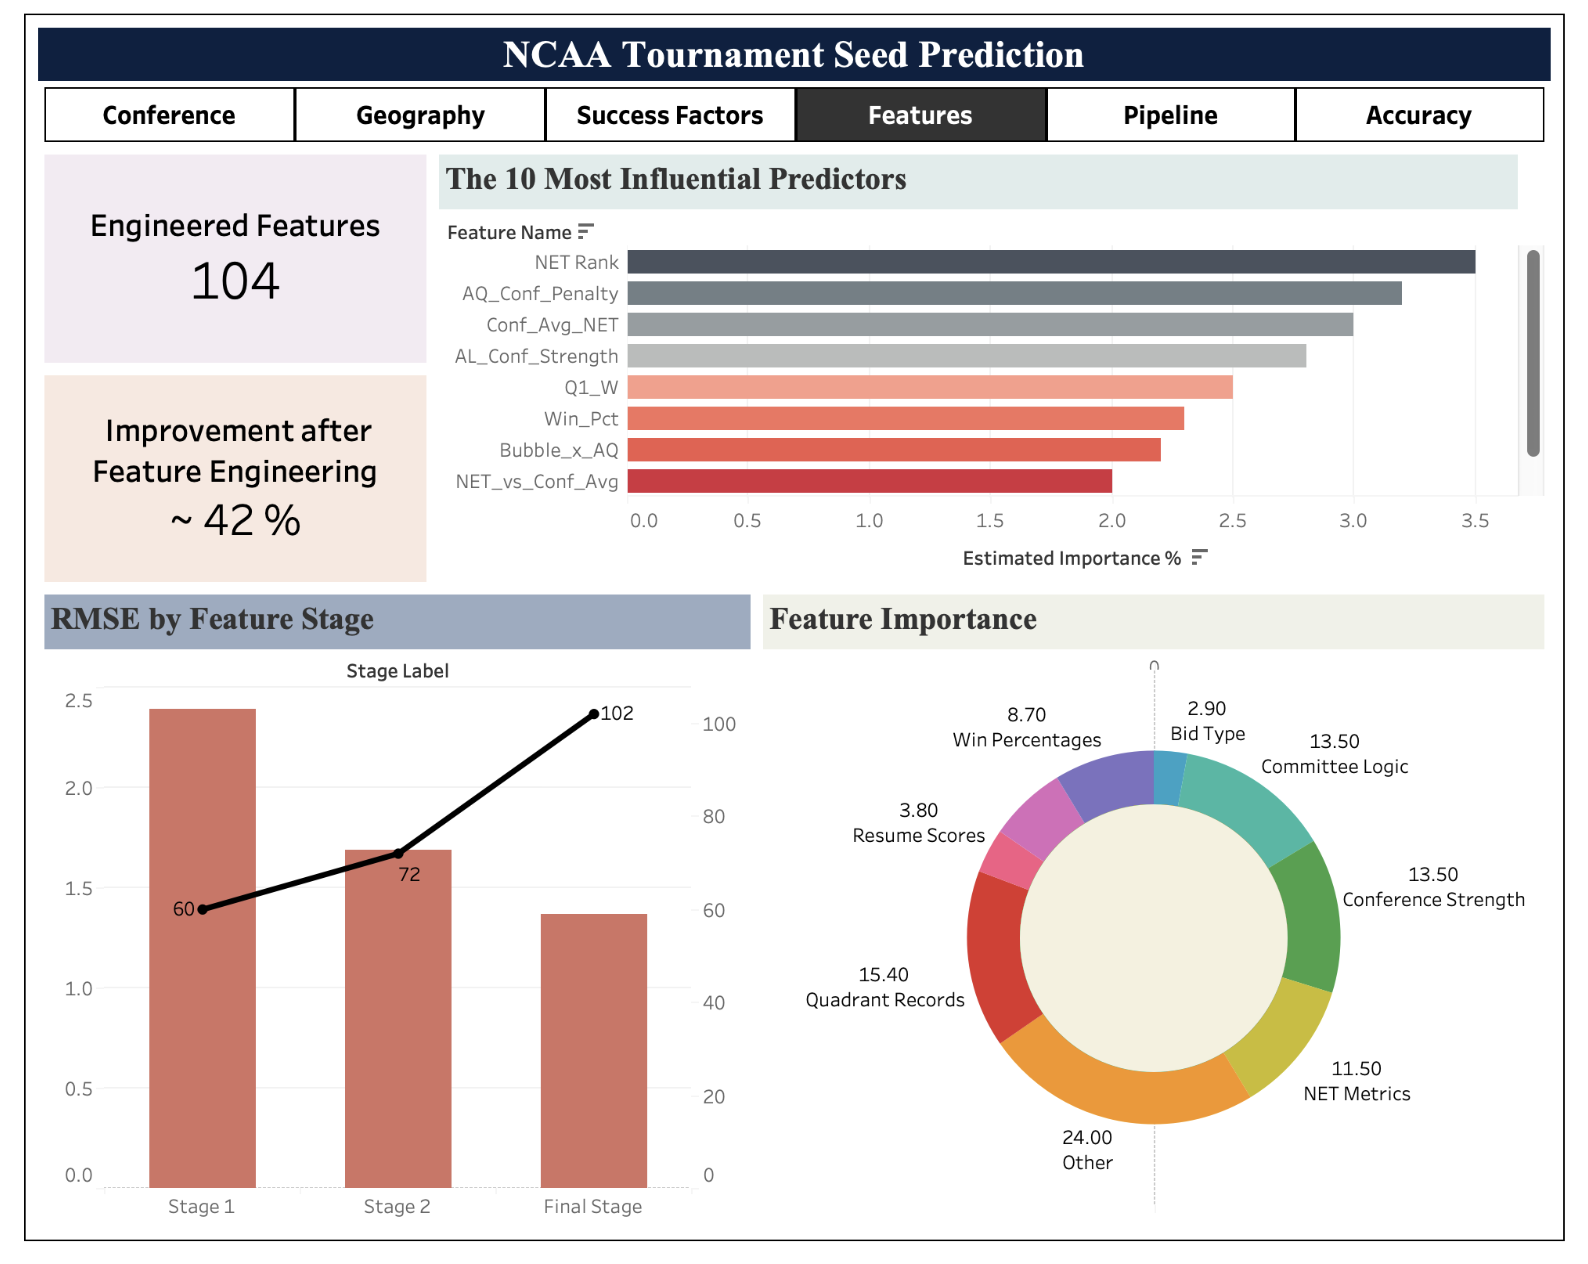

The page's visual inventory and layout, read from the dashboard file:
{"tool":"tableau","page":{"name":"Features","canvas":[1000,800],"ordinal":3},"visuals":[{"type":"title","box":[17,17,966,34]},{"type":"dashboard-object","box":[21,55,160,35]},{"type":"dashboard-object","box":[181,55,160,35]},{"type":"dashboard-object","box":[341,55,160,35]},{"type":"dashboard-object","box":[501,55,160,35]},{"type":"dashboard-object","box":[661,55,159,35]},{"type":"dashboard-object","box":[820,55,159,35]},{"type":"text","box":[17,94,252,141]},{"type":"worksheet","title":"Top 10 Features","mark":"Automatic","rows":["Feature_Name"],"cols":["Estimated_Importance_%"],"box":[269,94,714,281]},{"type":"text","box":[17,235,252,140]},{"type":"worksheet","title":"Pipeline Stages","mark":"Automatic","rows":["RMSE","Feature_Count"],"cols":["Stage_Label"],"box":[17,375,459,408]},{"type":"worksheet","title":"Feature Categories","mark":"Pie","cols":["Calculation_1341509790234574851","Calculation_1341509790234599429"],"box":[476,375,507,408]}]}

Visuals, with their boxes in screenshot pixels (x1, y1, x2, y2), scaled from the page's 1000x800 canvas onto the 1588x1264 screenshot:
title: BBox(27, 27, 1561, 81)
dashboard-object: BBox(33, 87, 287, 142)
dashboard-object: BBox(287, 87, 542, 142)
dashboard-object: BBox(542, 87, 796, 142)
dashboard-object: BBox(796, 87, 1050, 142)
dashboard-object: BBox(1050, 87, 1302, 142)
dashboard-object: BBox(1302, 87, 1555, 142)
text: BBox(27, 149, 427, 371)
"Top 10 Features" worksheet: BBox(427, 149, 1561, 592)
text: BBox(27, 371, 427, 592)
"Pipeline Stages" worksheet: BBox(27, 592, 756, 1237)
"Feature Categories" worksheet (Pie marks): BBox(756, 592, 1561, 1237)
